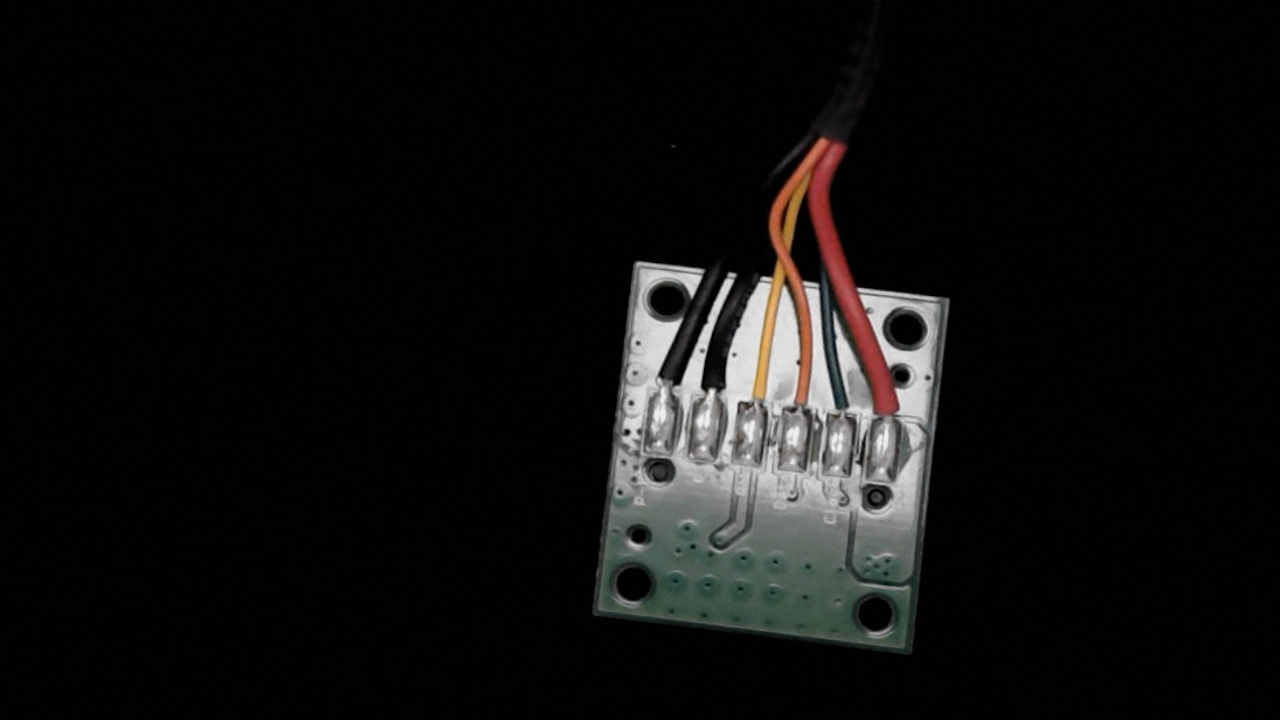Black: (688, 336, 740, 422)
Black1: (640, 340, 690, 419)
Green: (822, 371, 868, 441)
Orange: (778, 349, 825, 430)
Red: (864, 361, 916, 444)
Yellow: (730, 340, 782, 427)
